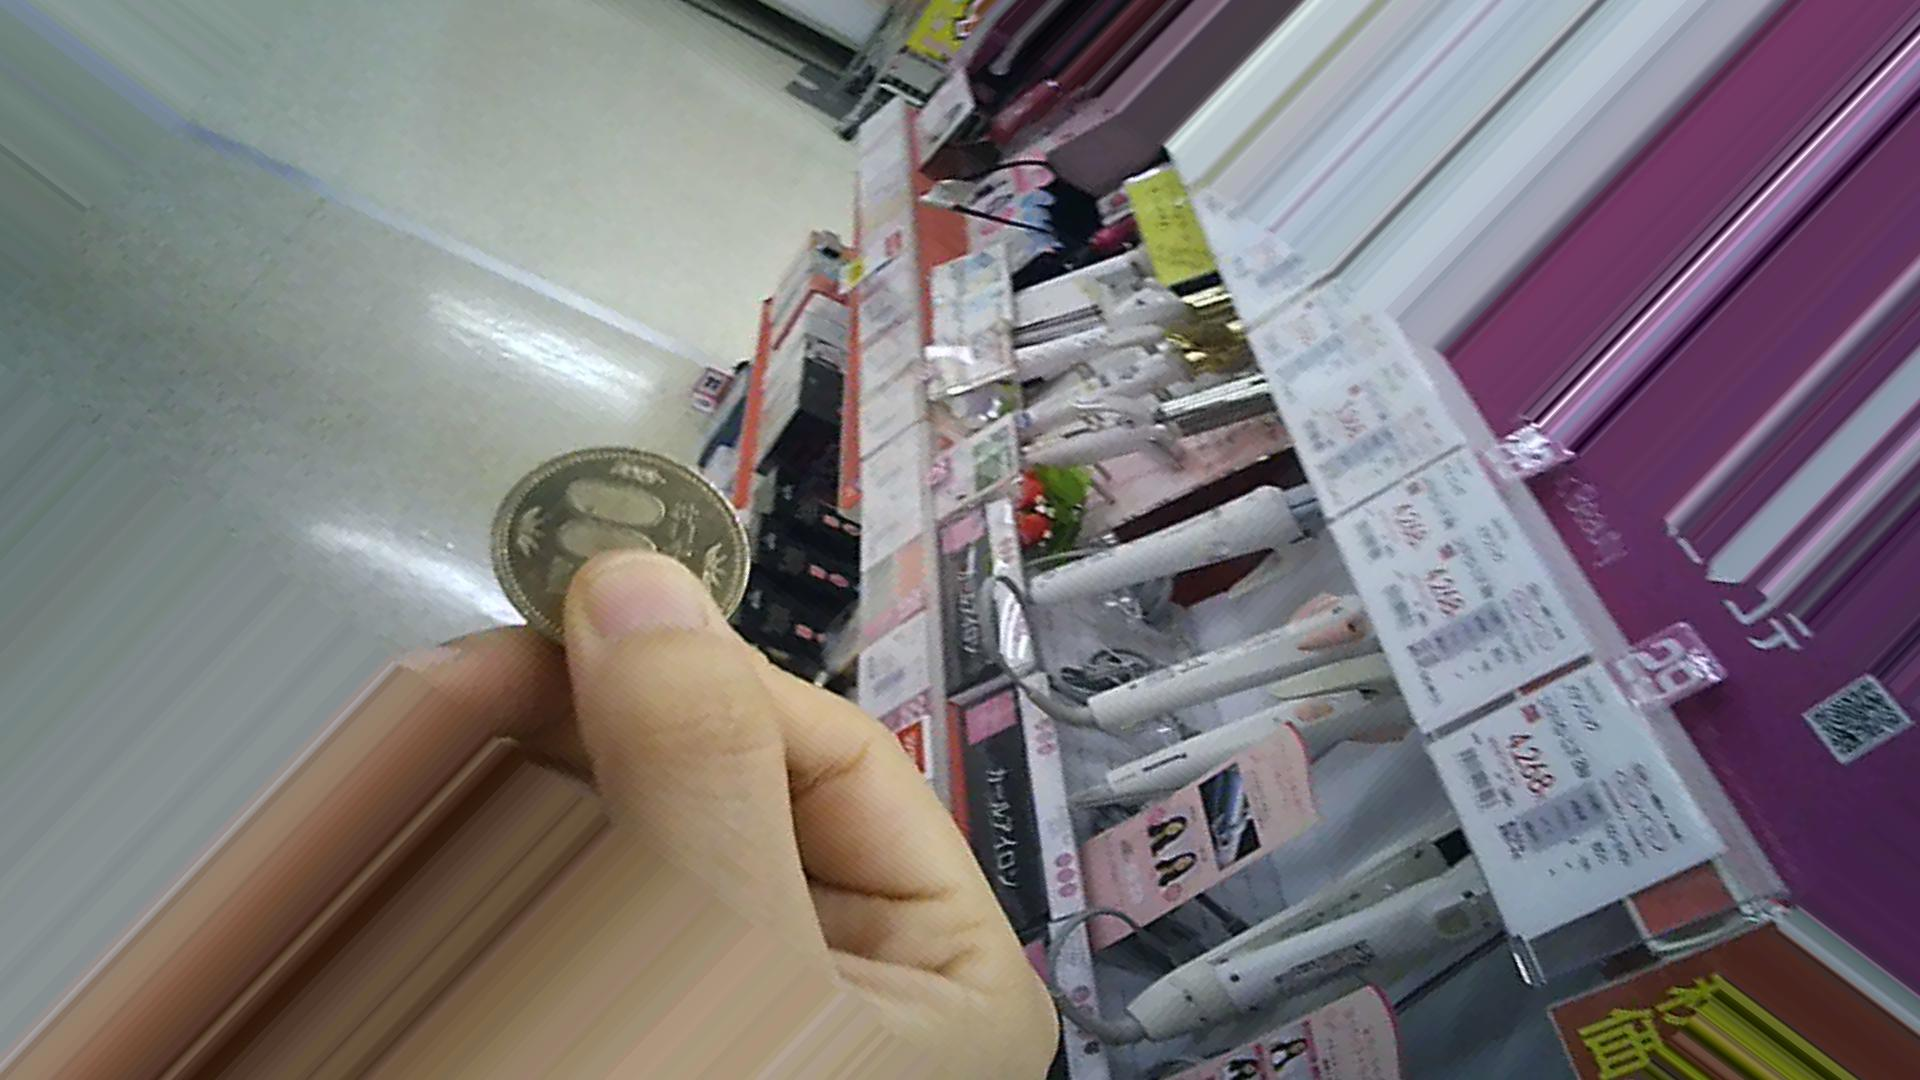500 Yen: (479, 436, 752, 645)
